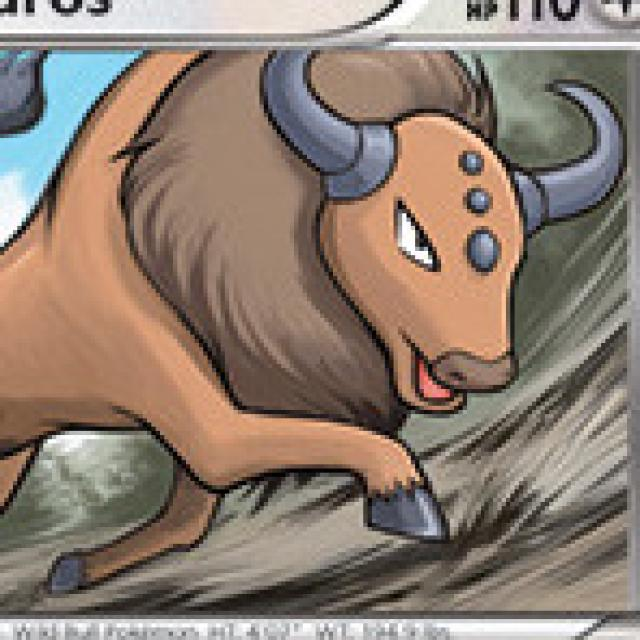Tauros: (10, 50, 533, 433)
